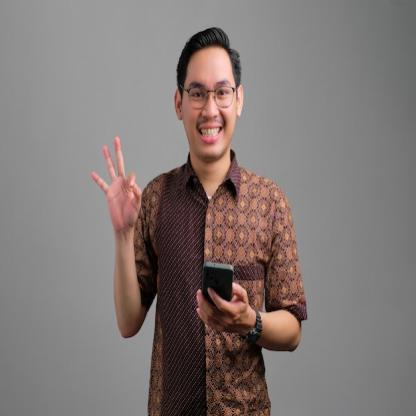ok: (90, 134, 144, 234)
